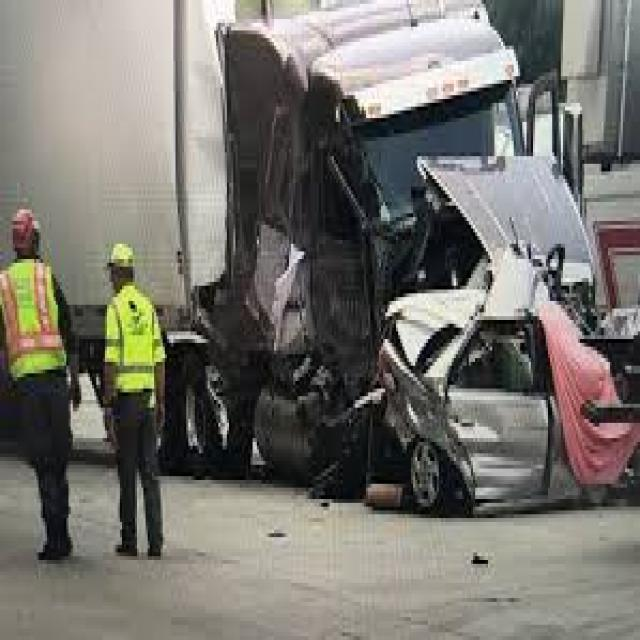accident: (142, 7, 640, 562)
